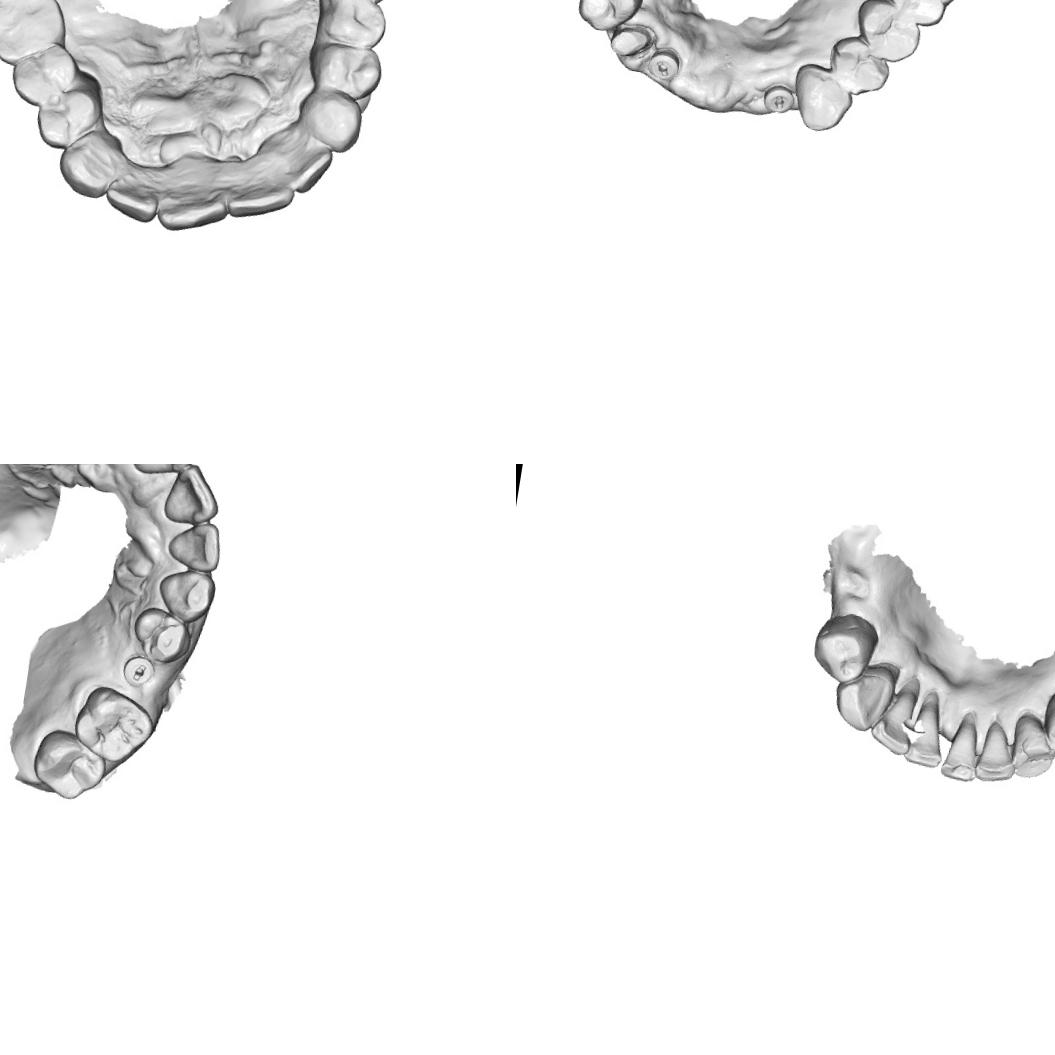canine: (50, 127, 132, 204), (290, 80, 370, 158), (785, 59, 856, 139), (830, 664, 897, 736), (152, 565, 222, 628), (1004, 712, 1055, 785)
crown: (604, 18, 657, 68)
implant_minus: (759, 74, 807, 126), (649, 40, 690, 86), (119, 648, 161, 692)
incisor: (154, 159, 235, 240), (221, 154, 299, 228), (262, 127, 337, 199), (100, 161, 170, 226), (934, 707, 989, 788), (161, 464, 228, 529), (970, 718, 1025, 789), (868, 692, 922, 760), (166, 516, 227, 576), (900, 705, 948, 773), (127, 464, 200, 481)
molar: (67, 680, 163, 767), (27, 725, 112, 806), (0, 0, 75, 74), (872, 0, 966, 33)
premolar: (4, 33, 84, 114), (807, 606, 881, 689), (301, 34, 386, 106), (32, 78, 108, 156), (822, 30, 895, 102), (848, 0, 925, 68), (128, 601, 198, 669), (312, 0, 395, 53), (571, 0, 650, 39), (1037, 683, 1055, 763)
